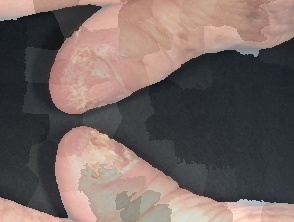Nail_psoriasis: (30, 115, 176, 222), (33, 14, 146, 120)
